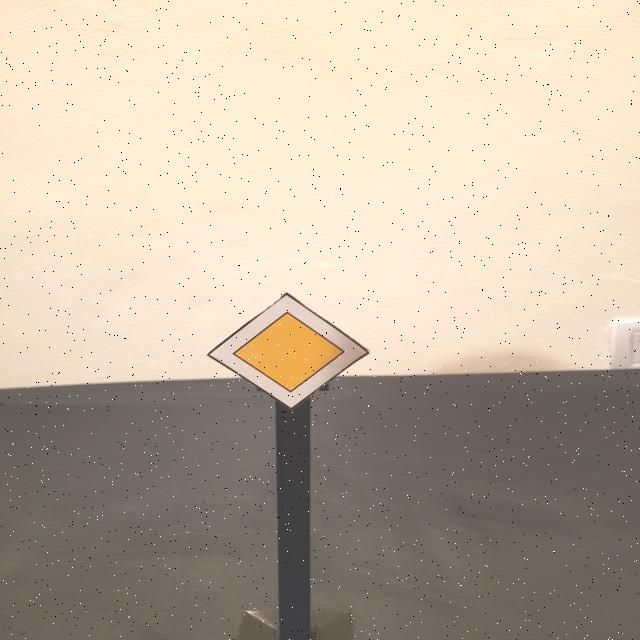priority: (204, 292, 368, 410)
